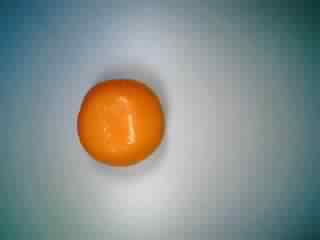orange: (71, 75, 167, 171)
